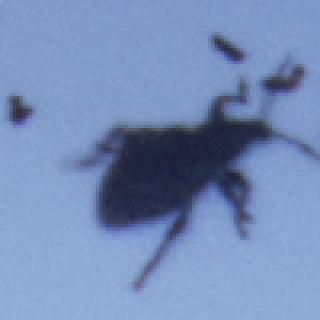bvw: (68, 55, 317, 292)
